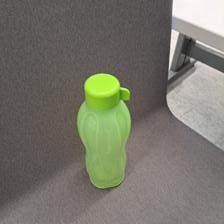bottle: (75, 69, 134, 192)
